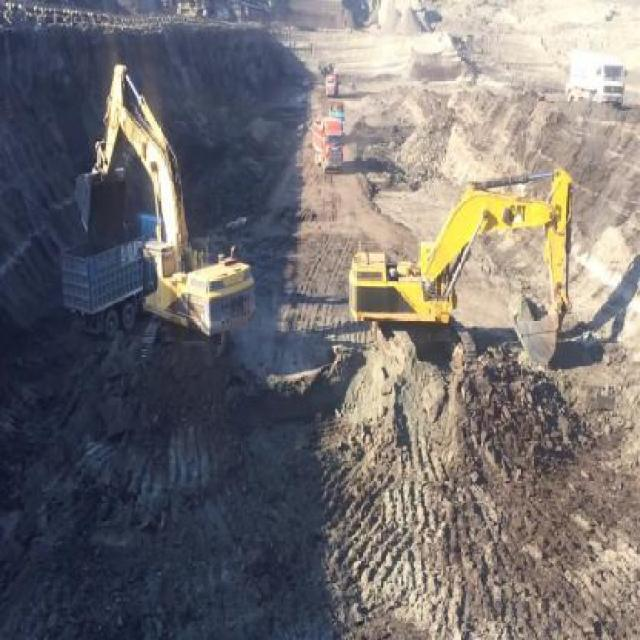dump_truck: (62, 209, 144, 343), (567, 48, 622, 104), (310, 118, 342, 174), (324, 77, 339, 91), (331, 100, 343, 114)
excavator: (75, 67, 256, 370), (345, 159, 578, 381)
